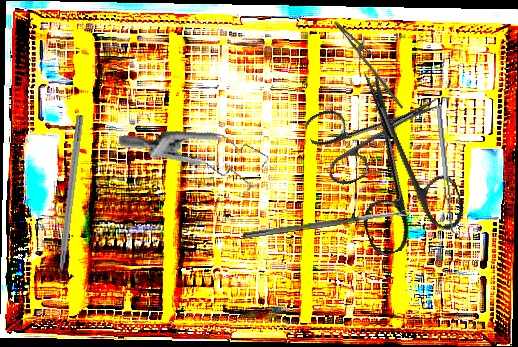Hook Surgical: (52, 114, 85, 298)
Iris Scissors: (319, 56, 471, 260), (301, 65, 454, 192)
Needle Holder: (324, 14, 419, 110)
Spatula Surgical: (436, 105, 460, 237)
Speculum: (117, 93, 278, 227)
Surgical Spoon: (242, 209, 411, 240)
